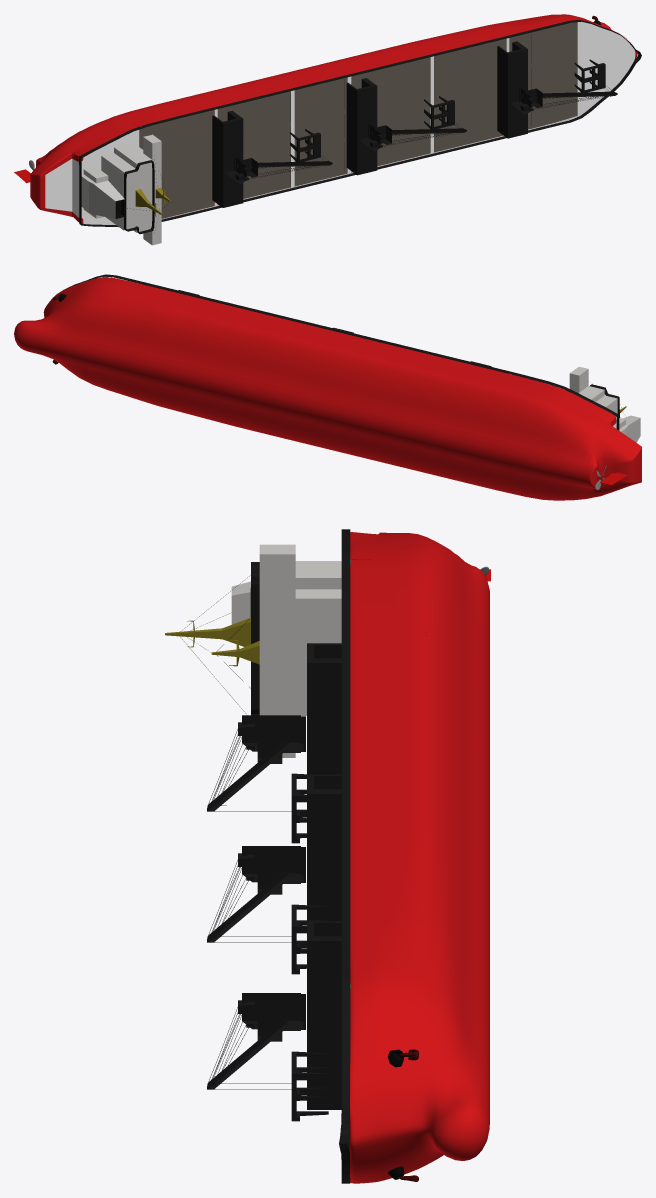
Rendered from cargo_ship.obj.
3 renders of one model, top to bottom at view 1: azimuth 30°, elevation 25°; view 2: azimuth 150°, elevation 25°; view 3: azimuth 270°, elevation 25°, orthographic. The views are drawn at different scales.
Visible parts, largest first — view 1: hull, bridge, cargo7, Crane.001, Crane.000, Crane.002, cargo10, cargo5, railingspanel, cargo8, cargo1, cargo4 (+6 smaller); view 2: hull, railingspanel, bridge; view 3: hull, bridge, Crane.002, Crane.000, Crane.001, railingspanel, railingspanel.001.
Part boxes in pixels (x1,y1,x2,y2): hull: [30, 14, 637, 224]; bridge: [81, 134, 171, 245]; cargo7: [294, 77, 347, 186]; Crane.001: [212, 110, 332, 207]; Crane.000: [346, 78, 466, 175]; Crane.002: [497, 41, 617, 138]; cargo10: [173, 110, 214, 215]; cargo5: [391, 57, 430, 162]; railingspanel: [79, 19, 641, 227]; cargo8: [255, 91, 290, 195]; cargo1: [543, 22, 577, 125]; cargo4: [434, 47, 470, 152]; hull: [14, 277, 641, 500]; railingspanel: [67, 274, 619, 430]; bridge: [569, 366, 640, 442]; hull: [350, 532, 489, 1183]; bridge: [165, 544, 341, 757]; Crane.002: [207, 921, 341, 1121]; Crane.000: [207, 774, 341, 974]; Crane.001: [207, 643, 341, 843]; railingspanel: [339, 529, 350, 1183]; railingspanel.001: [250, 562, 259, 715].
Size of the model in its own units: 13.72 by 2.26 by 3.27.
